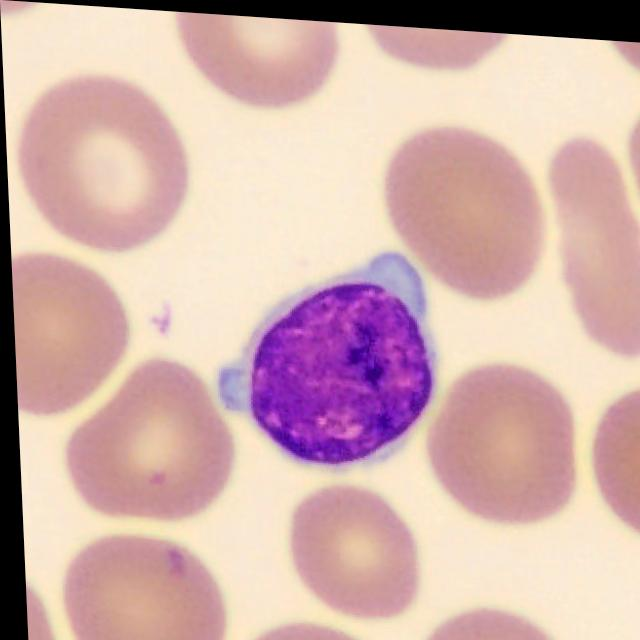Linfocito: (242, 248, 436, 462)
